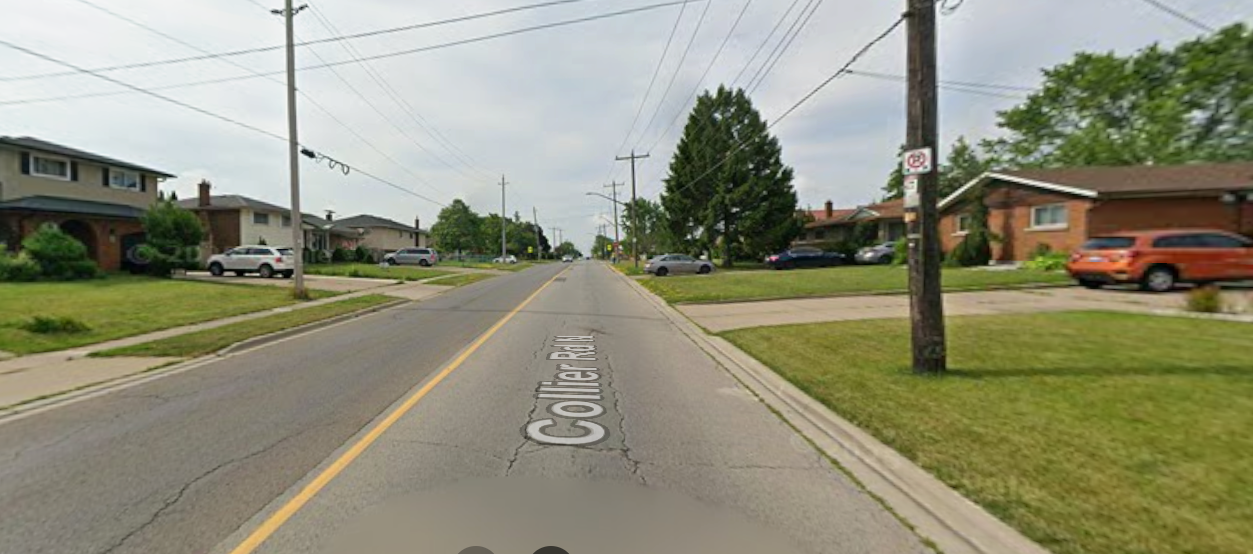cracks: (91, 423, 300, 554), (593, 340, 658, 485), (496, 372, 552, 477)
